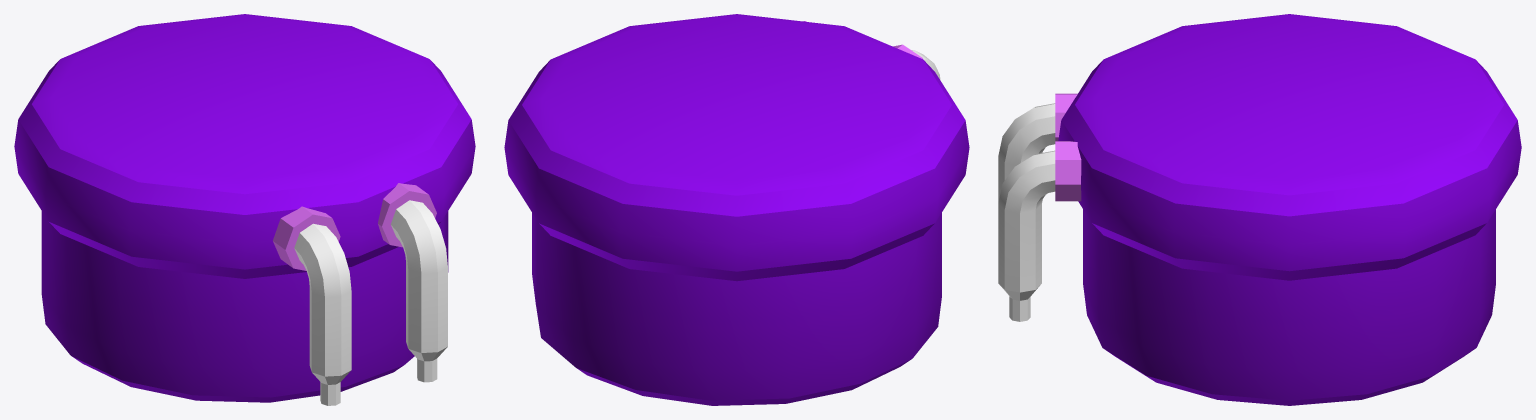
Rendered from Body_Dress_08.fbx.
3 renders of one model, left to right at view 1: azimuth 30°, elevation 25°; view 2: azimuth 150°, elevation 25°; view 3: azimuth 270°, elevation 25°, orthographic.
Visible parts, largest first — view 1: Body_Dress_08; view 2: Body_Dress_08; view 3: Body_Dress_08.
Part boxes in pixels (box(x1,y1,x2,y2)): Body_Dress_08: box(14, 14, 475, 405); Body_Dress_08: box(504, 14, 969, 405); Body_Dress_08: box(998, 14, 1521, 405).
Bounding box in the file's own units: 112 × 61.13 × 127.
